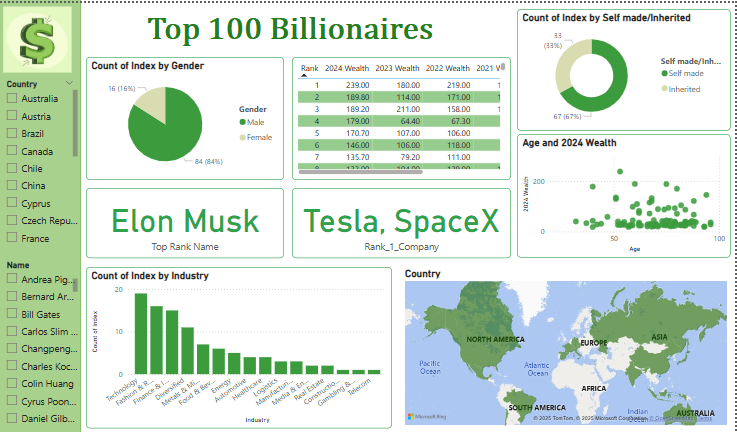

What the dashboard file says about the page in this screenshot:
{"tool":"powerbi","page":{"name":"Page 1","canvas":[1227,718],"ordinal":0},"visuals":[{"type":"clusteredColumnChart","fields":{"Category":["Top 100 Billionaires Dataset.Industry"],"Y":["Top 100 Billionaires Dataset.Index"]},"box":[145.7,440,510,268.6],"z":0},{"type":"pieChart","fields":{"Category":["Top 100 Billionaires Dataset.Gender"],"Y":["Top 100 Billionaires Dataset.Index"]},"box":[145,90,330,205],"z":1000},{"type":"filledMap","fields":{"Category":["Top 100 Billionaires Dataset.Country"]},"box":[671.4,440,547.1,268.6],"z":2000},{"type":"scatterChart","fields":{"X":["Top 100 Billionaires Dataset.Age"],"Y":["Top 100 Billionaires Dataset.2024 Wealth"]},"box":[862.9,218.6,355.7,205.7],"z":3000},{"type":"textbox","box":[241.4,10,510,80],"z":4000},{"type":"donutChart","fields":{"Category":["Top 100 Billionaires Dataset.Self made/Inherited"],"Y":["Top 100 Billionaires Dataset.Index"]},"box":[862.9,10,355.7,202.9],"z":5000},{"type":"card","fields":{"Values":["Top 100 Billionaires Dataset.TopRankName"]},"box":[145,308.3,330,116.7],"z":6000},{"type":"slicer","fields":{"Values":["Top 100 Billionaires Dataset.Country"]},"box":[0,121.2,136.2,288.8],"z":7000},{"type":"slicer","fields":{"Values":["Top 100 Billionaires Dataset.Name"]},"box":[0,423.3,136.7,285],"z":8000},{"type":"card","fields":{"Values":["Top 100 Billionaires Dataset.Rank_1_Company"]},"box":[488.3,308.3,365,116.7],"z":9000},{"type":"tableEx","fields":{"Values":["Top 100 Billionaires Dataset.Rank","Top 100 Billionaires Dataset.2024 Wealth","Top 100 Billionaires Dataset.2023 Wealth","Top 100 Billionaires Dataset.2022 Wealth","Top 100 Billionaires Dataset.2021 Wealth","Top 100 Billionaires Dataset.2020 Wealth","Top 100 Billionaires Dataset.2019 Wealth"]},"box":[488.3,90,365,205],"z":10000},{"type":"image","box":[0,0,127.5,121.2],"z":11000}]}

Visuals, with their boxes on the page's 1227x718 design canvas (x1, y1, x2, y2). These are canvas units, not pixel positions in the 737x432 screenshot, which may show the page scaled, cropped or inside an application window:
clusteredColumnChart - Top 100 Billionaires Dataset.Industry x Top 100 Billionaires Dataset.Index: x1=146, y1=440, x2=656, y2=709
pieChart - Top 100 Billionaires Dataset.Gender x Top 100 Billionaires Dataset.Index: x1=145, y1=90, x2=475, y2=295
filledMap - Top 100 Billionaires Dataset.Country: x1=671, y1=440, x2=1218, y2=709
scatterChart - Top 100 Billionaires Dataset.Age x Top 100 Billionaires Dataset.2024 Wealth: x1=863, y1=219, x2=1219, y2=424
textbox: x1=241, y1=10, x2=751, y2=90
donutChart - Top 100 Billionaires Dataset.Self made/Inherited x Top 100 Billionaires Dataset.Index: x1=863, y1=10, x2=1219, y2=213
card - Top 100 Billionaires Dataset.TopRankName: x1=145, y1=308, x2=475, y2=425
slicer - Top 100 Billionaires Dataset.Country: x1=0, y1=121, x2=136, y2=410
slicer - Top 100 Billionaires Dataset.Name: x1=0, y1=423, x2=137, y2=708
card - Top 100 Billionaires Dataset.Rank_1_Company: x1=488, y1=308, x2=853, y2=425
tableEx - Top 100 Billionaires Dataset.Rank x Top 100 Billionaires Dataset.2024 Wealth: x1=488, y1=90, x2=853, y2=295
image: x1=0, y1=0, x2=128, y2=121
